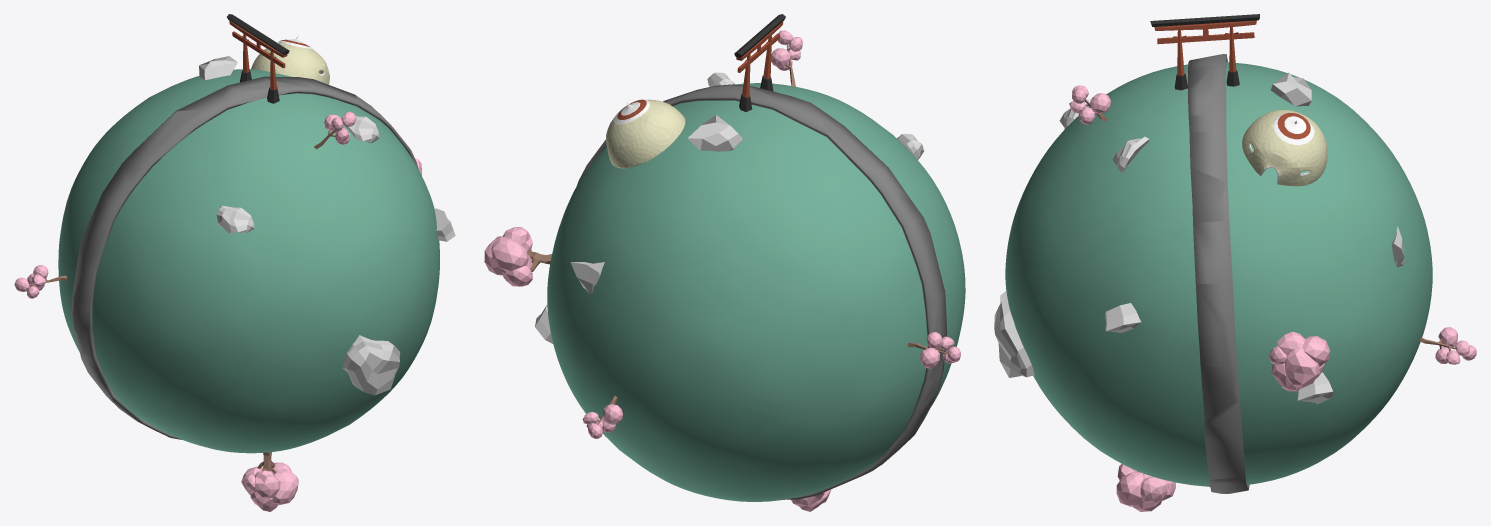
The model's file is kaio_sakura.glb.
3 views of the same model, side by side, from view 1: azimuth 30°, elevation 25°; view 2: azimuth 150°, elevation 25°; view 3: azimuth 270°, elevation 25° (orthographic). The views are drawn at different scales.
Parts seen in each view (by area): view 1: Icosphere, Road, Rock3, OakTree3.034, House, Torii, Rock3.034, OakTree2.034, OakTree2.035, Rock2.034, Rock3.035; view 2: Icosphere, Road, House, OakTree3, Torii, Rock2.034, OakTree2.035, OakTree2.034, OakTree2, Rock2; view 3: Icosphere, Road, House, Torii, OakTree3, OakTree3.034, Rock3, OakTree2, OakTree2.034, Rock2.034, Rock4.034, Rock4 (+1 smaller).
Part boxes in pixels (bbox=[...]): Icosphere: bbox=[58, 69, 439, 453]; Road: bbox=[71, 76, 418, 439]; Rock3: bbox=[342, 335, 400, 395]; OakTree3.034: bbox=[241, 452, 298, 511]; House: bbox=[251, 35, 329, 84]; Torii: bbox=[227, 14, 289, 103]; Rock3.034: bbox=[216, 205, 254, 233]; OakTree2.034: bbox=[314, 111, 356, 149]; OakTree2.035: bbox=[14, 265, 67, 298]; Rock2.034: bbox=[199, 56, 237, 79]; Rock3.035: bbox=[346, 116, 378, 143]; Icosphere: bbox=[547, 83, 965, 501]; Road: bbox=[577, 84, 947, 499]; House: bbox=[606, 99, 685, 168]; OakTree3: bbox=[484, 227, 551, 286]; Torii: bbox=[734, 14, 785, 111]; Rock2.034: bbox=[687, 115, 743, 151]; OakTree2.035: bbox=[907, 332, 960, 368]; OakTree2.034: bbox=[771, 30, 802, 86]; OakTree2: bbox=[582, 396, 622, 438]; Rock2: bbox=[570, 262, 604, 294]; Icosphere: bbox=[1005, 62, 1432, 486]; Road: bbox=[1188, 54, 1249, 493]; House: bbox=[1242, 110, 1327, 186]; Torii: bbox=[1150, 14, 1259, 90]; OakTree3: bbox=[1269, 331, 1329, 391]; OakTree3.034: bbox=[1116, 464, 1175, 511]; Rock3: bbox=[994, 291, 1034, 377]; OakTree2: bbox=[1419, 327, 1476, 364]; OakTree2.034: bbox=[1069, 85, 1110, 124]; Rock2.034: bbox=[1271, 72, 1311, 106]; Rock4.034: bbox=[1105, 303, 1140, 332]; Rock4: bbox=[1297, 372, 1333, 403].
Bounding box in the file's own units: 11.31 × 11.69 × 10.14.
